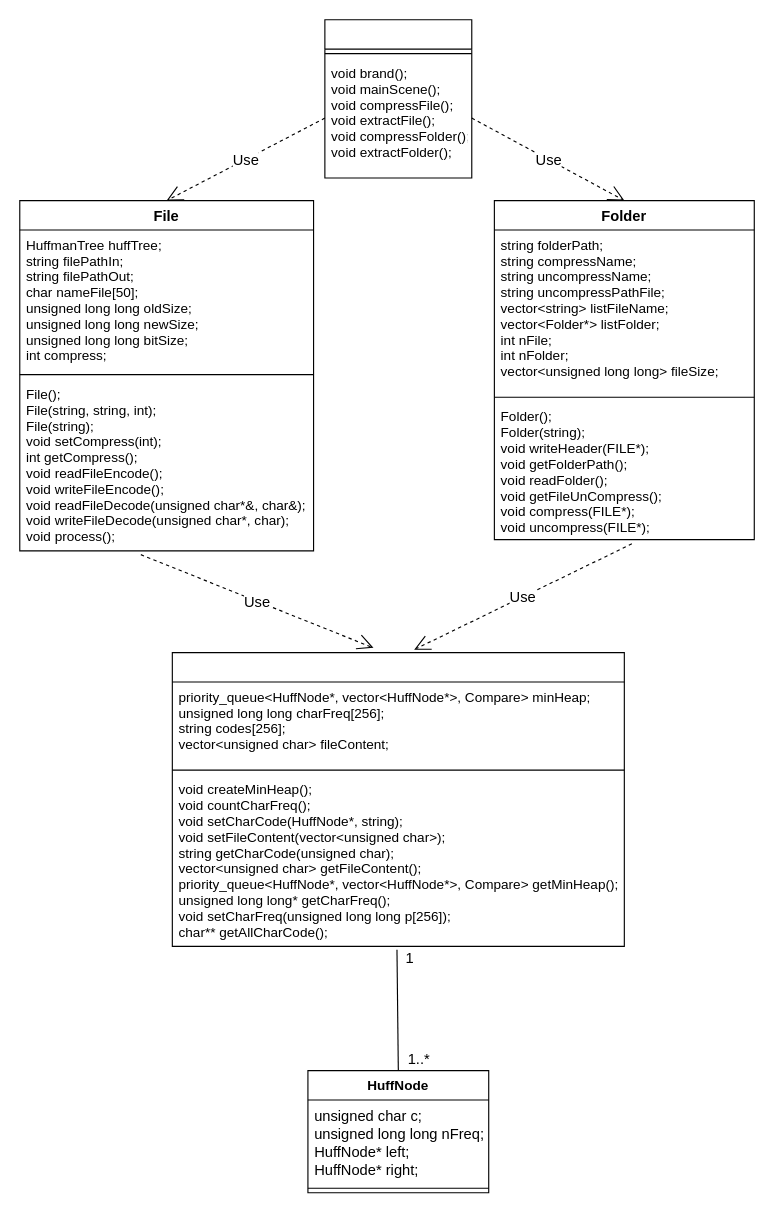
Image size: 774x1212. Some labels were removed from this diagram. The shapes that lost their labels are listed below. From the top down, each one's box as (x1, y1, x2, y2) in pixels, then its label:
(324, 19, 472, 178): GUI
(171, 651, 624, 946): HuffmanTree
